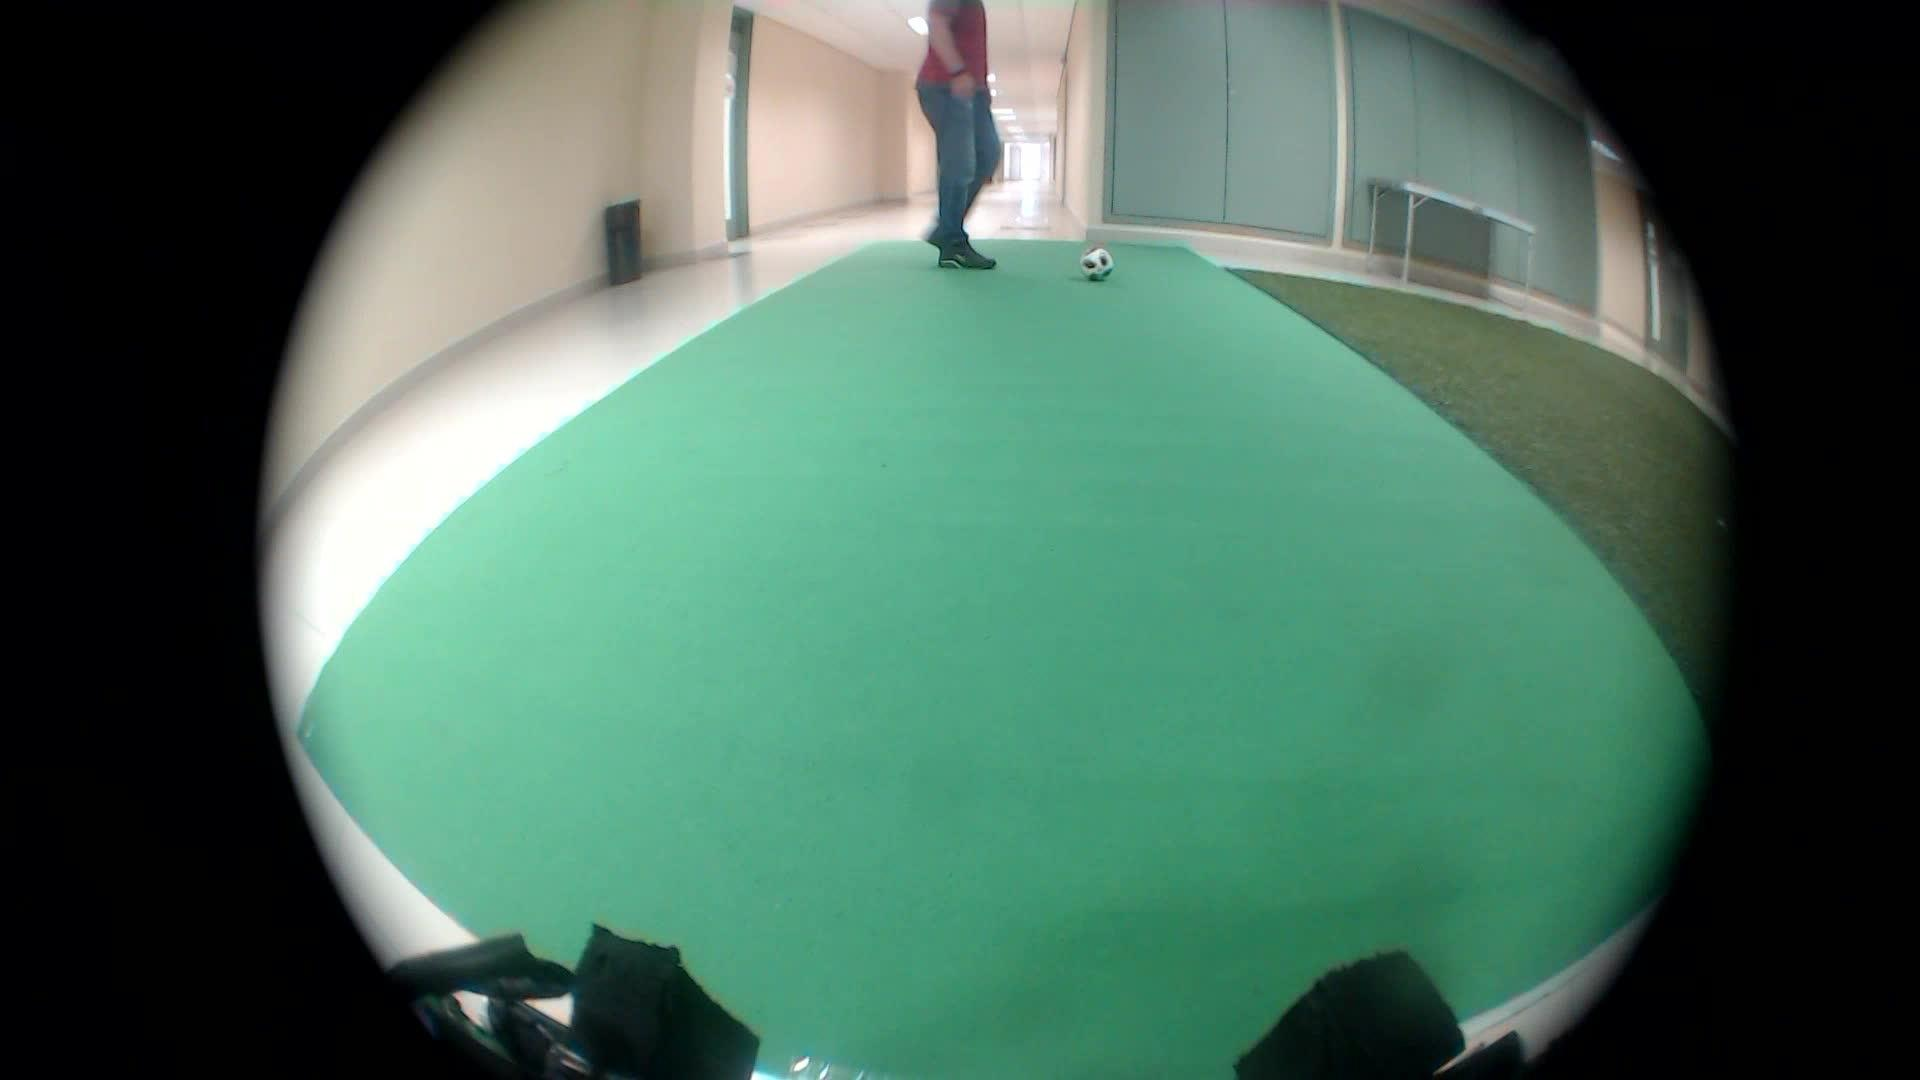ball: (1069, 243, 1112, 287)
